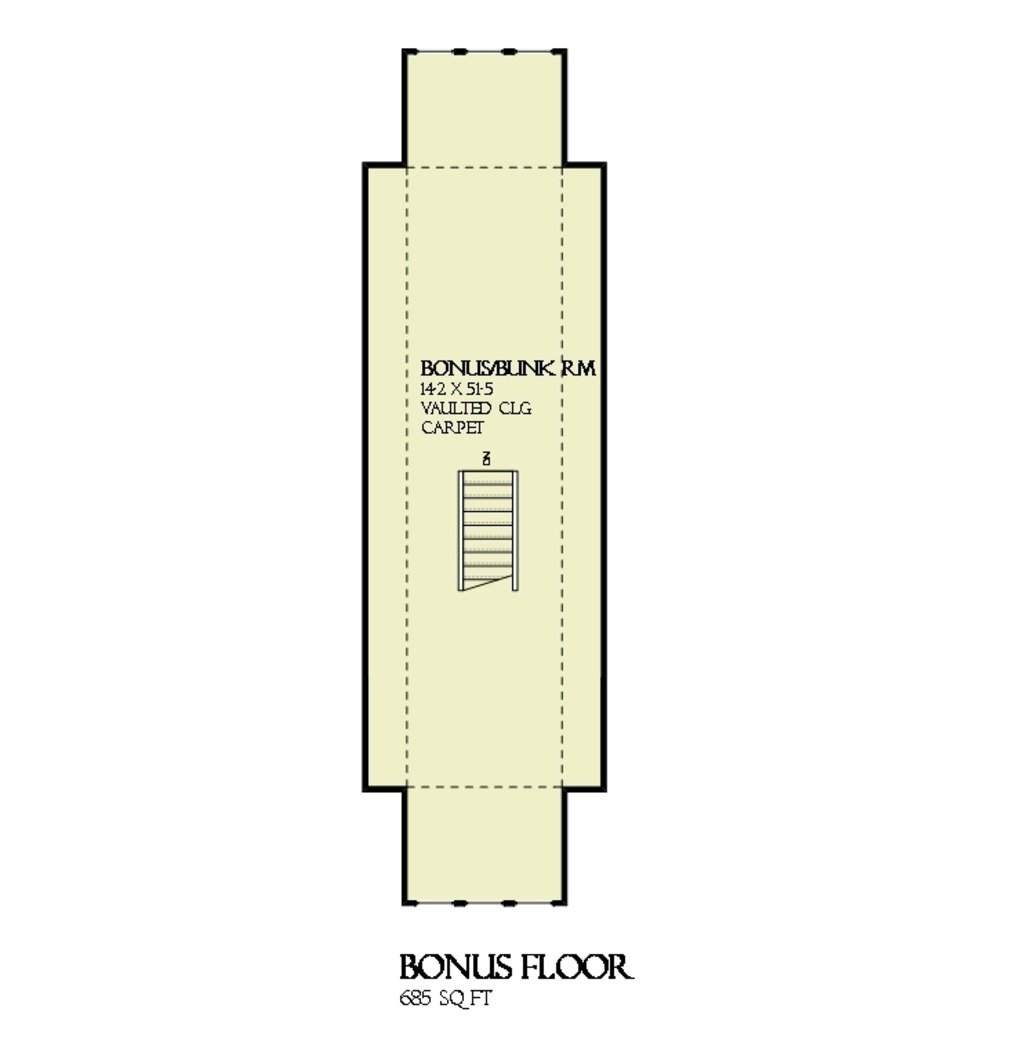stairs: (451, 465, 523, 604)
windows: (413, 889, 551, 908), (409, 43, 561, 60)
